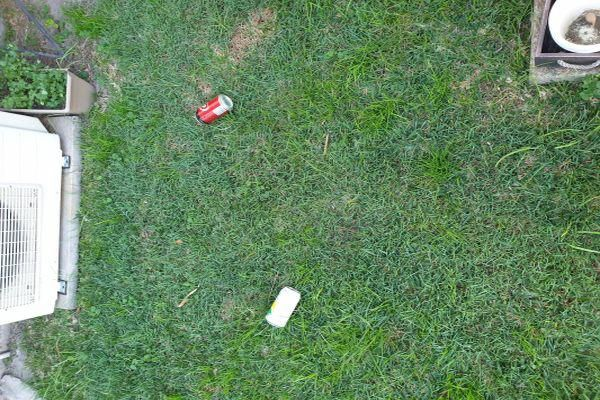Plastic Bottle: (265, 286, 302, 328), (194, 94, 233, 125)
